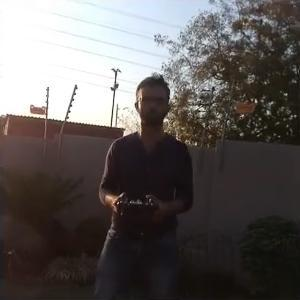follow: (82, 68, 200, 298)
